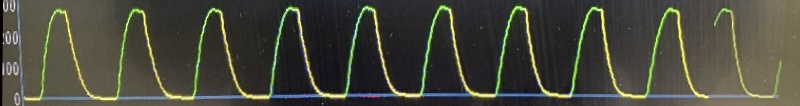normal_volume: (22, 0, 714, 106)
